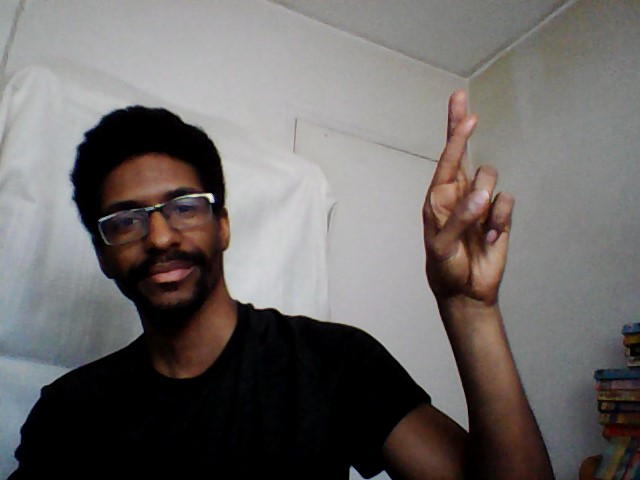r: (419, 87, 518, 309)
